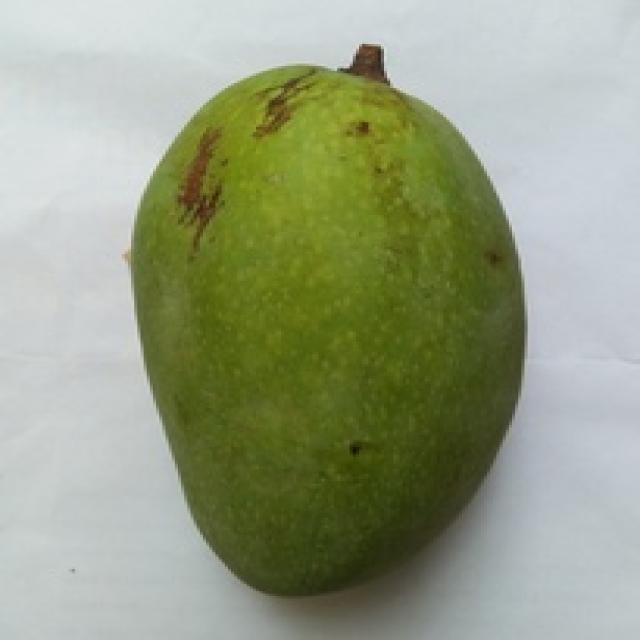Mango: (134, 64, 521, 589)
